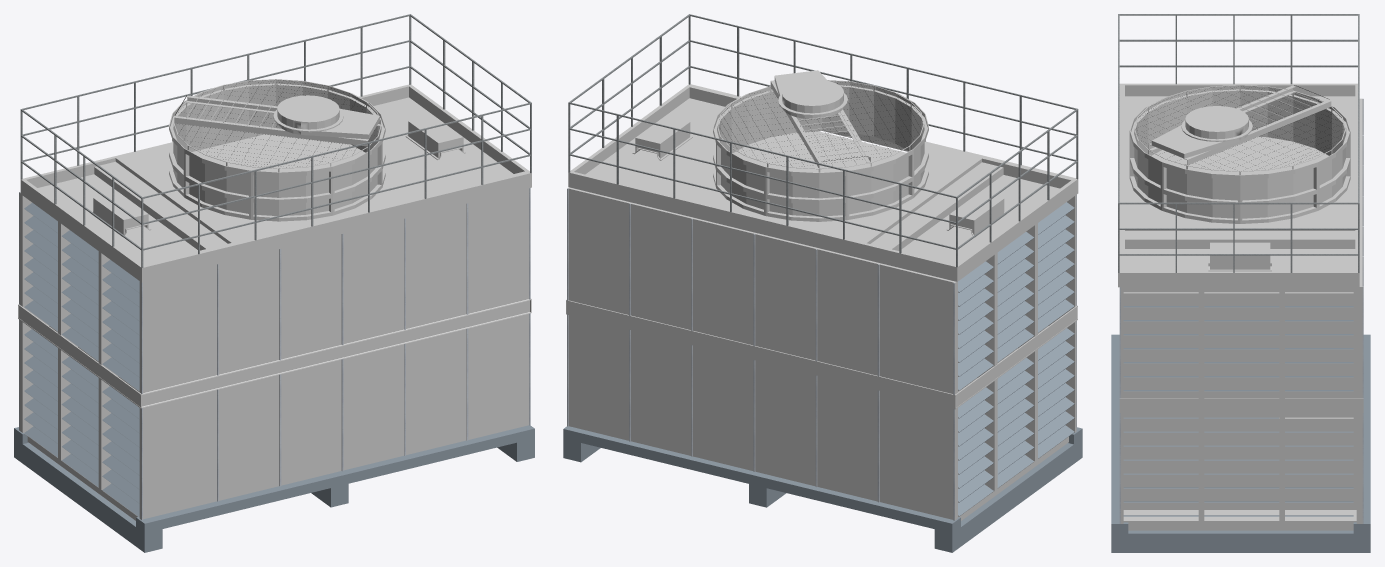
The model's file is lengque.gltf.
3 views of the same model, side by side, from view 1: azimuth 30°, elevation 25°; view 2: azimuth 150°, elevation 25°; view 3: azimuth 270°, elevation 25° (orthographic).
Visible parts, largest first — view 1: 冷却塔07; view 2: 冷却塔07; view 3: 冷却塔07.
Boxes of the visible parts, <box> form: 冷却塔07: <box>14,14,534,552</box>; 冷却塔07: <box>563,14,1082,552</box>; 冷却塔07: <box>1111,14,1370,552</box>.
Size of the model in its own units: 66.52 by 57.21 by 38.46.
6 materials, 2 textured.
